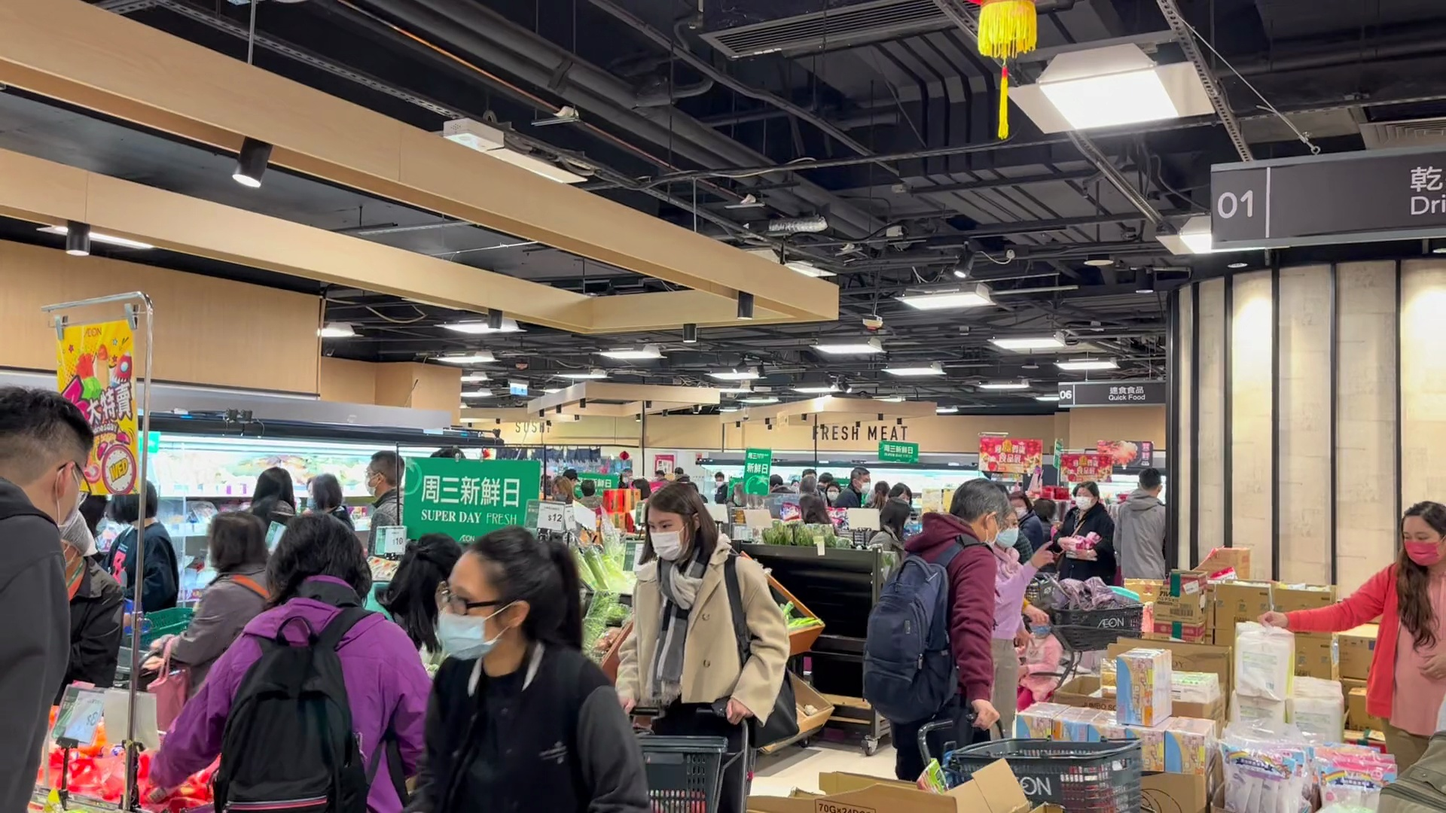dates_box: (221, 0, 1004, 503), (230, 0, 1006, 317), (186, 506, 735, 813), (1085, 0, 1446, 274), (880, 237, 1182, 439)
electronics: (624, 180, 1212, 813), (881, 200, 1446, 813), (7, 180, 536, 813), (826, 136, 1216, 813), (982, 328, 1445, 813), (1150, 238, 1445, 813), (1254, 0, 1446, 785), (1250, 237, 1446, 813), (1215, 404, 1445, 813), (0, 500, 283, 813), (531, 410, 693, 813)
wallet: (1206, 0, 1446, 270)
watch: (1, 0, 435, 813), (669, 68, 1318, 586), (891, 0, 1416, 544), (855, 53, 1365, 592), (1, 95, 351, 813), (0, 131, 262, 813), (510, 500, 919, 813), (1087, 194, 1302, 380), (1051, 168, 1265, 350), (986, 585, 1102, 740)
